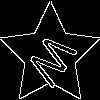W: (24, 30, 86, 95)
